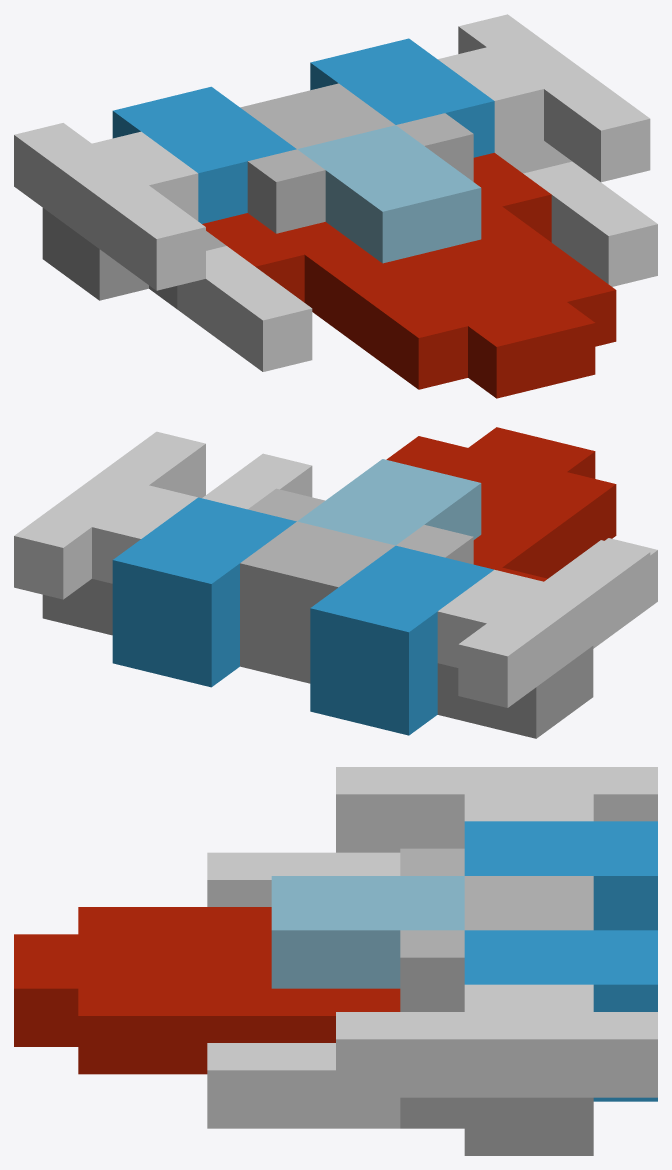
Rendered from Ship.fbx.
3 views of the same model, one above another, from view 1: azimuth 30°, elevation 25°; view 2: azimuth 150°, elevation 25°; view 3: azimuth 270°, elevation 25° (orthographic). The views are drawn at different scales.
Parts seen in each view (by area): view 1: Matrix, Matrix_2, Matrix_1; view 2: Matrix, Matrix_2, Matrix_1; view 3: Matrix, Matrix_2, Matrix_1.
Boxes of the visible parts, bbox=[...] form: Matrix: bbox=[42, 38, 616, 398]; Matrix_2: bbox=[14, 14, 650, 290]; Matrix_1: bbox=[177, 161, 657, 371]; Matrix: bbox=[42, 427, 616, 738]; Matrix_2: bbox=[14, 431, 650, 707]; Matrix_1: bbox=[202, 453, 657, 648]; Matrix: bbox=[14, 821, 657, 1155]; Matrix_2: bbox=[336, 767, 657, 1097]; Matrix_1: bbox=[207, 852, 400, 1128].
Bounding box in the file's own units: 10 × 2 × 10.
